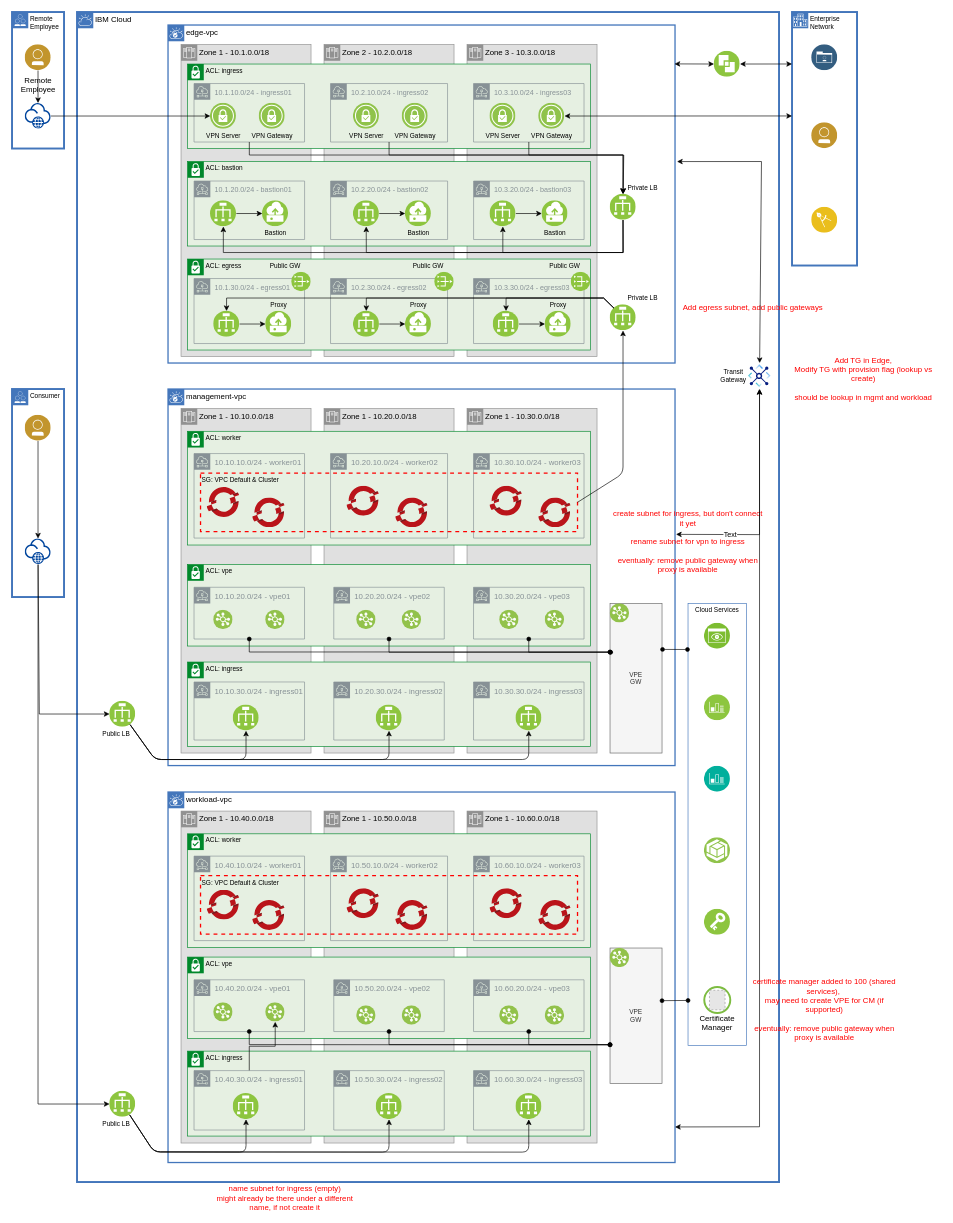
Some shapes in this 953 by 1223 pixel diagram are drawn without their labels. Grey dashed boxes stand in for pictures. Each missing label, with the centre of its shape:
"Activity Tracker" goes at [717,779].
"Direct Link" goes at [727,64].
"Enterprise Application" goes at [824,220].
"Enterprise Directory" goes at [824,57].
"Enterprise User" goes at [824,135].
"Internet" goes at [38,551].
"Key Management" goes at [717,922].
"Logging" goes at [717,707].
"Monitoring" goes at [717,636].
"Object Storage" goes at [717,850].
"Users" goes at [38,428].
